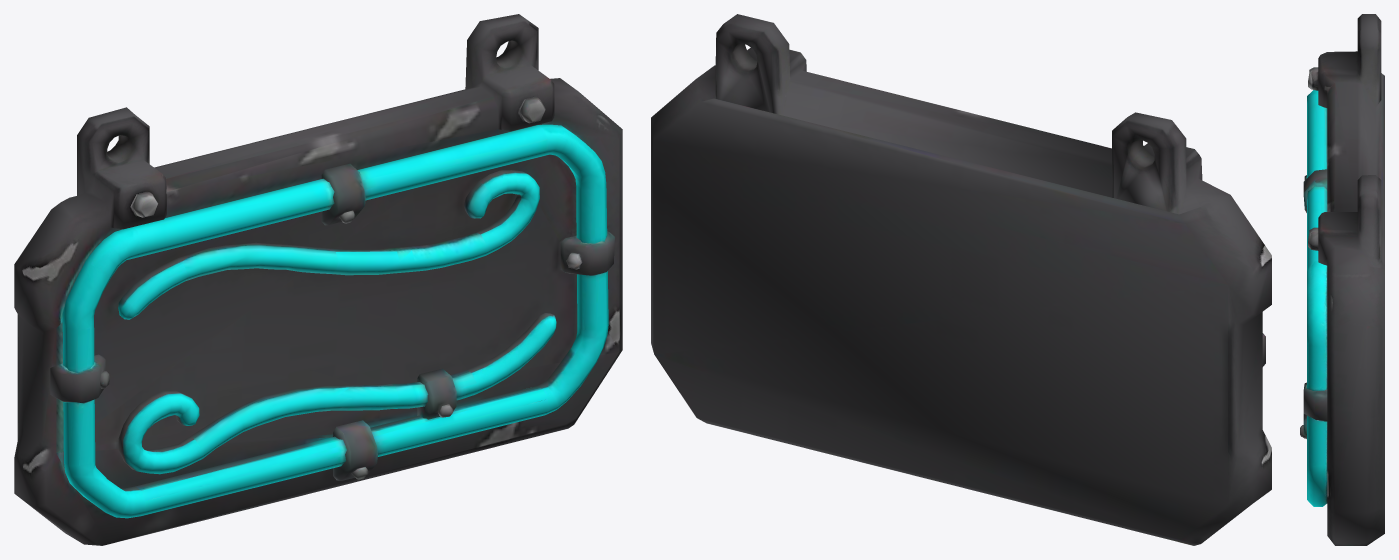
Rendered from neon-sign.glb.
The picture shows the model from 3 angles, left to right: view 1: azimuth 30°, elevation 25°; view 2: azimuth 150°, elevation 25°; view 3: azimuth 270°, elevation 25°; orthographic projection. The views are drawn at different scales.
Visible parts, largest first — view 1: tripo_node_08d3ece7-989a-47c4-9074-3c5ef32a27d5; view 2: tripo_node_08d3ece7-989a-47c4-9074-3c5ef32a27d5; view 3: tripo_node_08d3ece7-989a-47c4-9074-3c5ef32a27d5.
Boxes of the visible parts, x1=… form: tripo_node_08d3ece7-989a-47c4-9074-3c5ef32a27d5: x1=14, y1=14, x2=622, y2=545; tripo_node_08d3ece7-989a-47c4-9074-3c5ef32a27d5: x1=651, y1=14, x2=1271, y2=545; tripo_node_08d3ece7-989a-47c4-9074-3c5ef32a27d5: x1=1300, y1=14, x2=1384, y2=545.
Bounding box in the file's own units: 0.998 × 0.6621 × 0.1464.
Materials: 1 (1 with a texture image).
